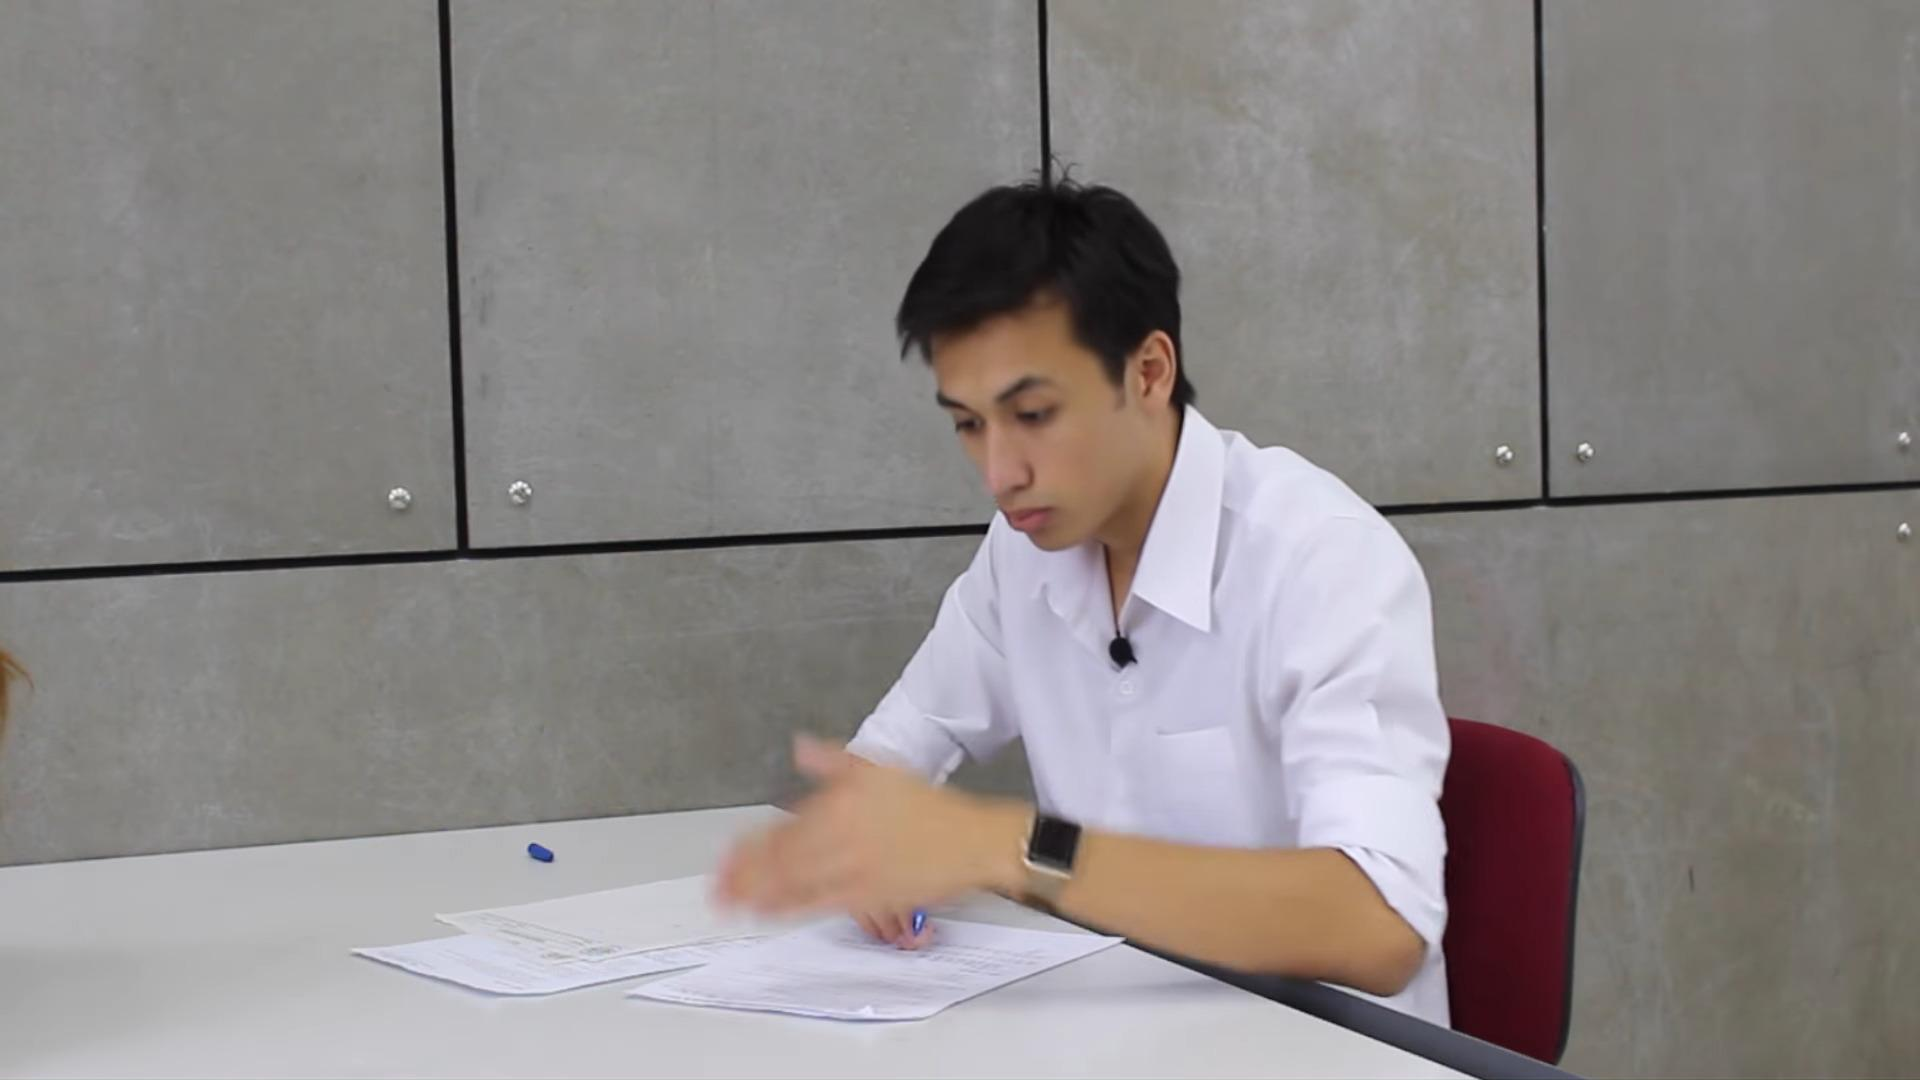good: (323, 117, 1523, 1063)
